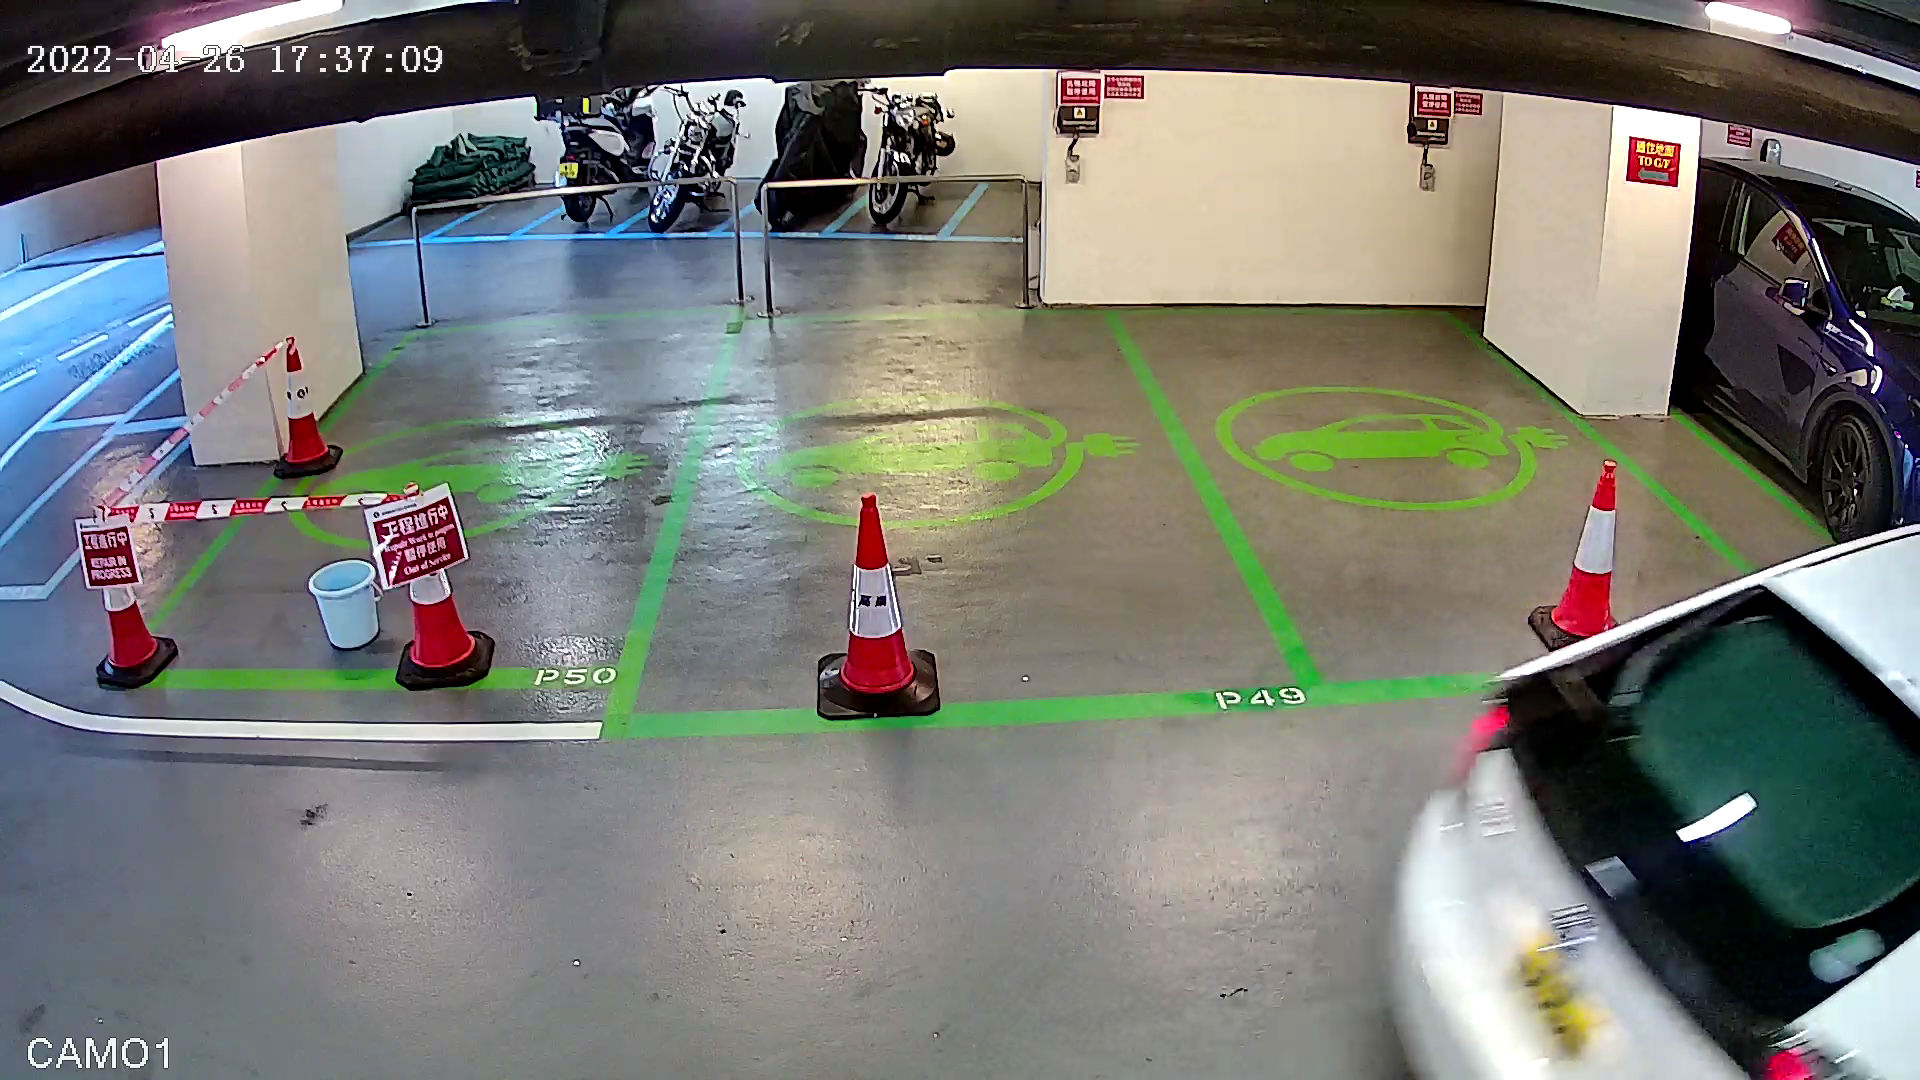space: (572, 273, 1332, 765), (1097, 273, 1818, 727)
